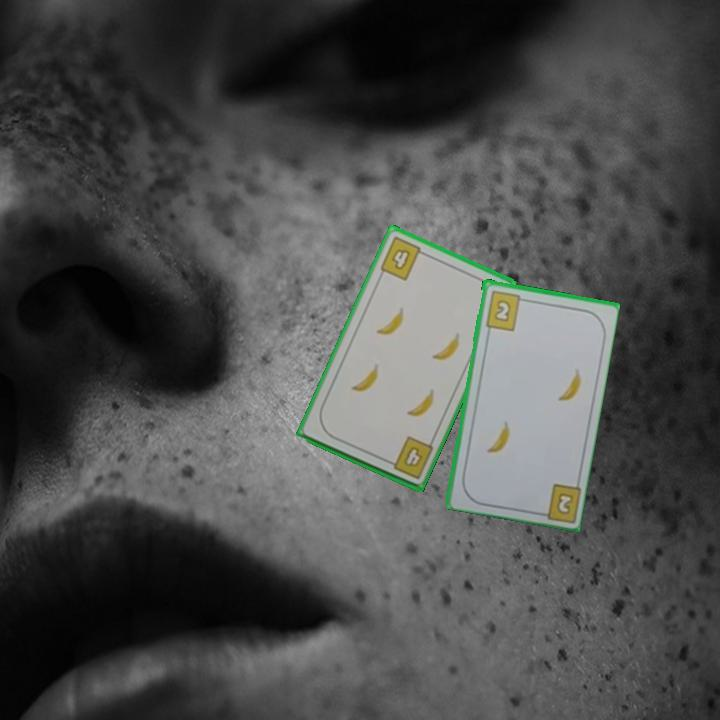2b: (482, 287, 529, 333), (553, 489, 576, 517)
4b: (376, 233, 430, 283), (382, 433, 436, 482)
